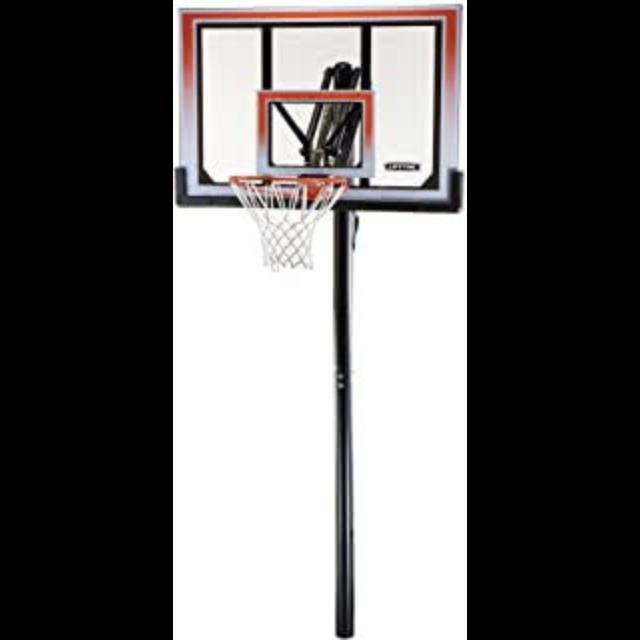rim: (232, 174, 346, 270)
